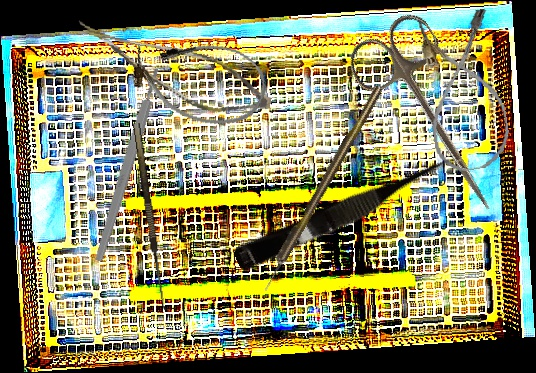Cannula: (123, 26, 275, 136), (415, 8, 514, 175)
Hook Surgical: (258, 84, 385, 293), (132, 121, 177, 312)
Iris Scissors: (340, 6, 531, 232)
Micro Scissor: (231, 149, 460, 277), (64, 19, 280, 123)
Scalpel Handle: (93, 67, 163, 263)
